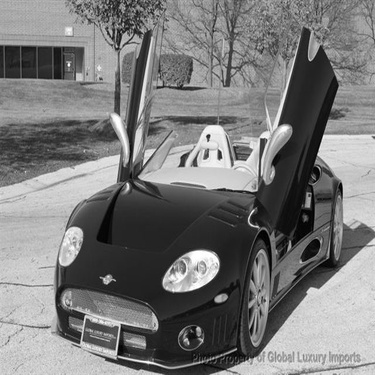car: (42, 7, 346, 371)
